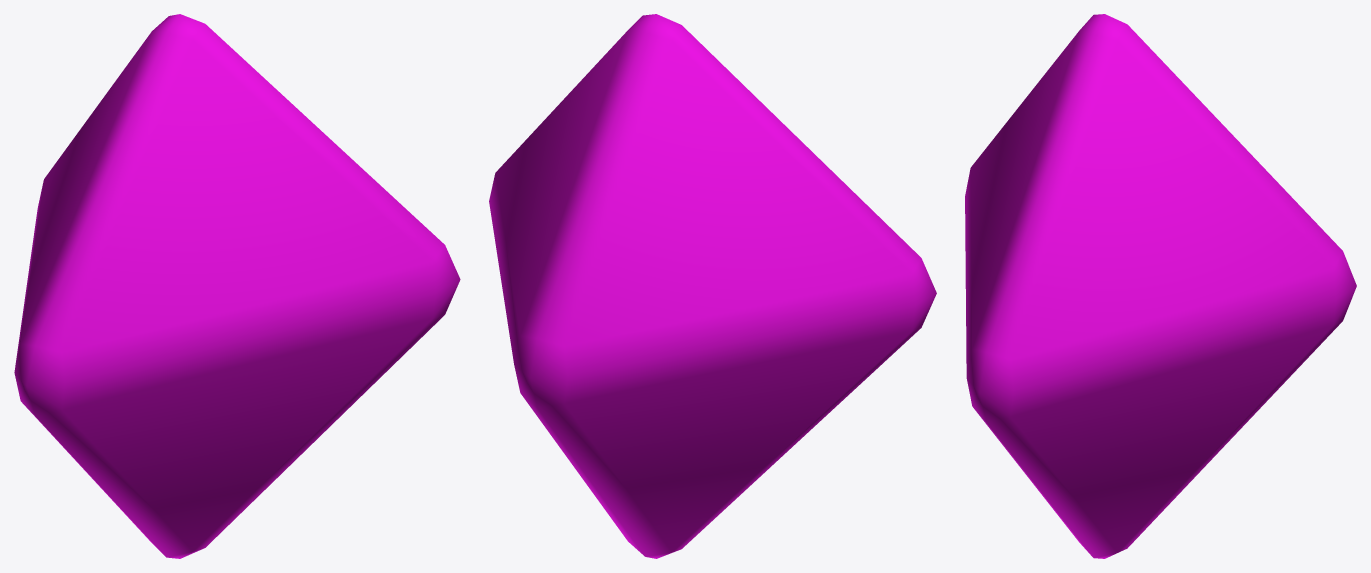
Rendered from Emerald v2.fbx.
The picture shows the model from 3 angles, left to right: view 1: azimuth 30°, elevation 25°; view 2: azimuth 150°, elevation 25°; view 3: azimuth 270°, elevation 25°; orthographic projection.
Visible parts, largest first — view 1: Emerald; view 2: Emerald; view 3: Emerald.
Part boxes in pixels (<box>): Emerald: <box>14,14,460,558</box>; Emerald: <box>489,14,936,558</box>; Emerald: <box>965,14,1356,558</box>.
Bounding box in the file's own units: 228 × 273 × 178.
